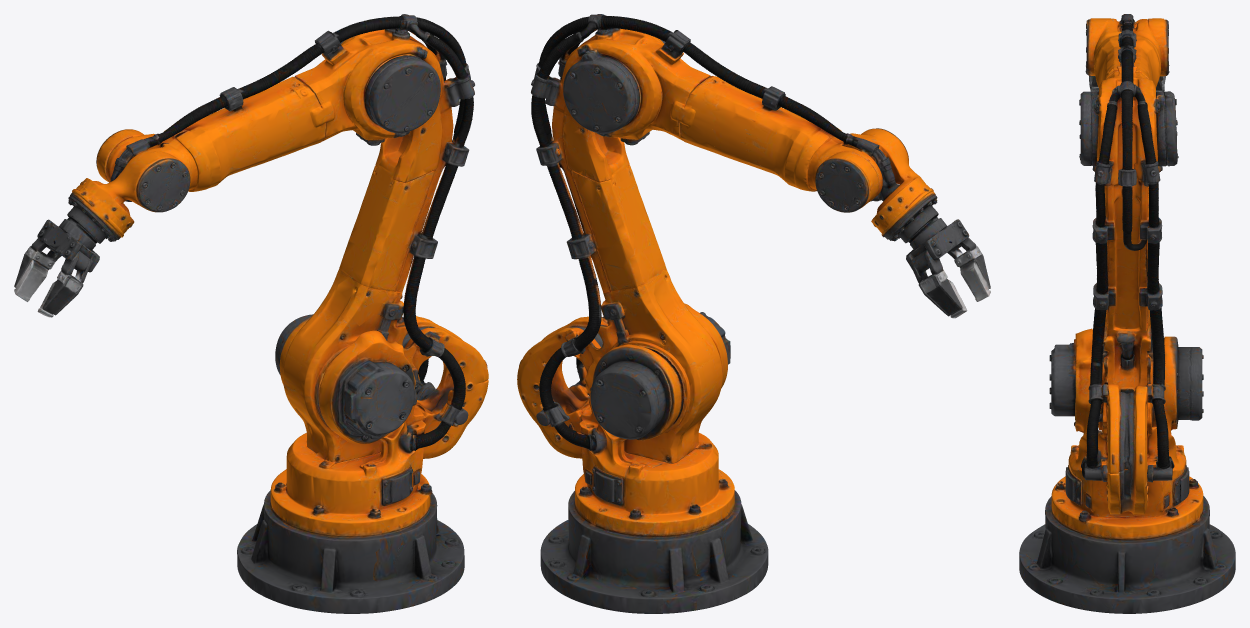
File: robot-arm-light.glb
3 views of the same model, side by side, from view 1: azimuth 30°, elevation 25°; view 2: azimuth 150°, elevation 25°; view 3: azimuth 270°, elevation 25° (orthographic). The views are drawn at different scales.
Visible parts, largest first — view 1: robot-arm; view 2: robot-arm; view 3: robot-arm.
Part boxes in pixels (x1,y1,x2,y2): robot-arm: (14,14,488,613); robot-arm: (517,14,990,613); robot-arm: (1019,14,1235,613).
Bounding box in the file's own units: 1.75 × 2 × 0.7608.
Materials: 1 (1 with a texture image).
